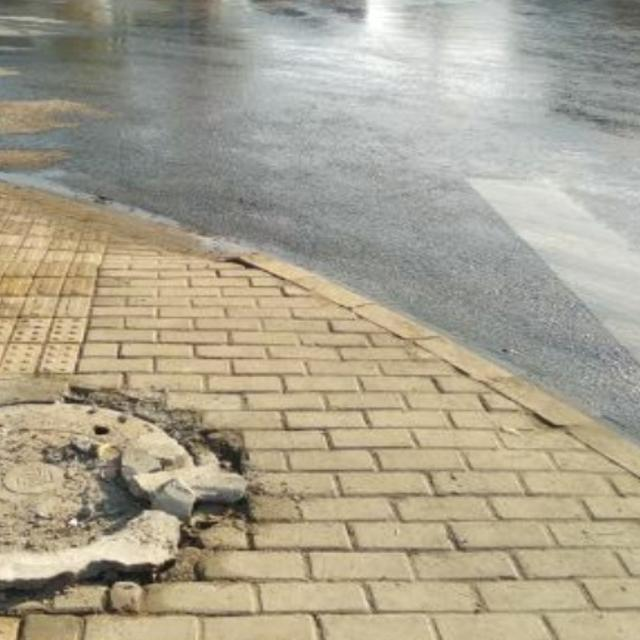circle: (0, 364, 251, 598)
